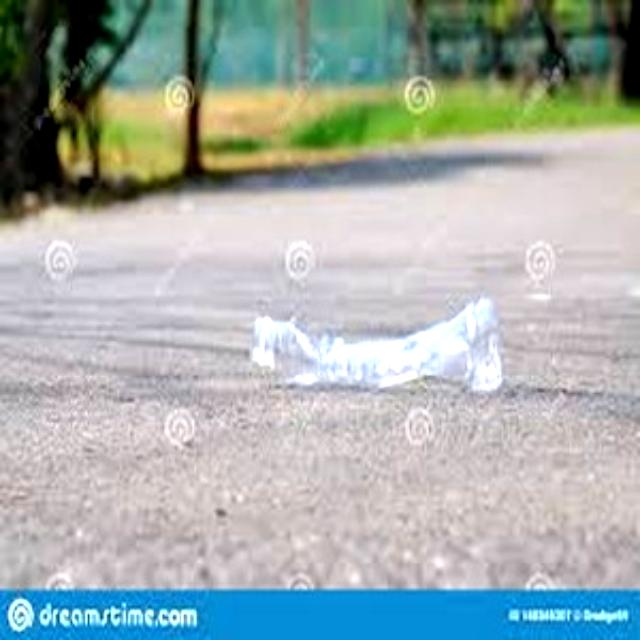Plastic: (246, 301, 504, 401)
